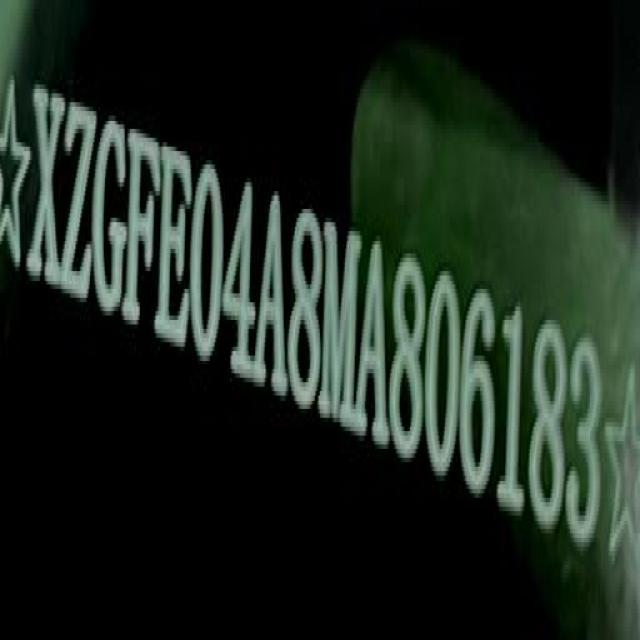0: (426, 265, 460, 485), (192, 155, 225, 374)
1: (500, 306, 528, 524)
3: (568, 329, 604, 558)
4: (222, 168, 255, 391)
6: (459, 286, 497, 507)
8: (530, 315, 566, 536), (289, 200, 325, 417), (392, 246, 427, 468)
A: (254, 178, 288, 400), (358, 236, 390, 453)
E: (156, 142, 193, 356)
F: (126, 114, 162, 341)
G: (94, 100, 128, 327)
M: (323, 216, 362, 440)
X: (27, 75, 66, 302)
Z: (60, 87, 93, 315)
